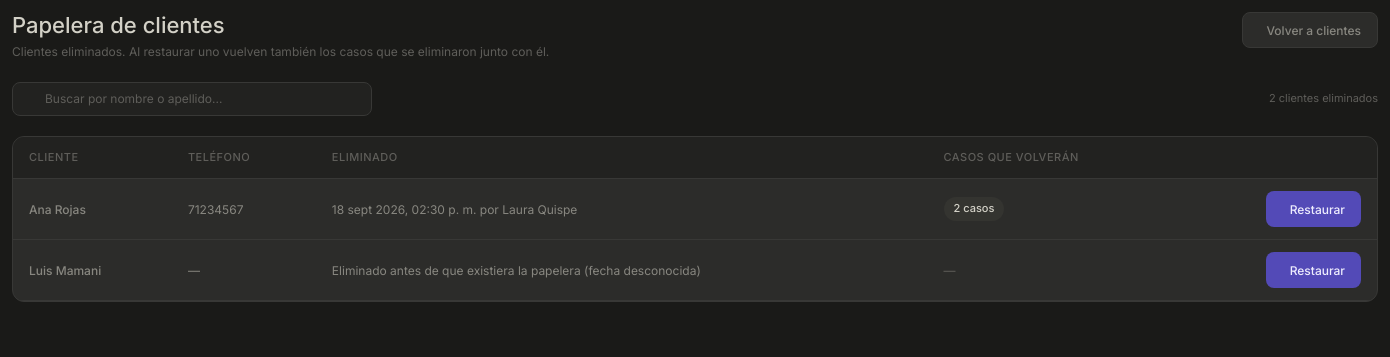
Test: PapeleraClientesPage › restaurar avisa cuántos casos vuelven, restaura y confirma el resultado
Expected: the text "Ana Rojas" is shown, [13,179,172,240]
Click the button "Restaurar" in the row of "Ana Rojas".
click(1313, 209)  # box [1266,191,1361,227]
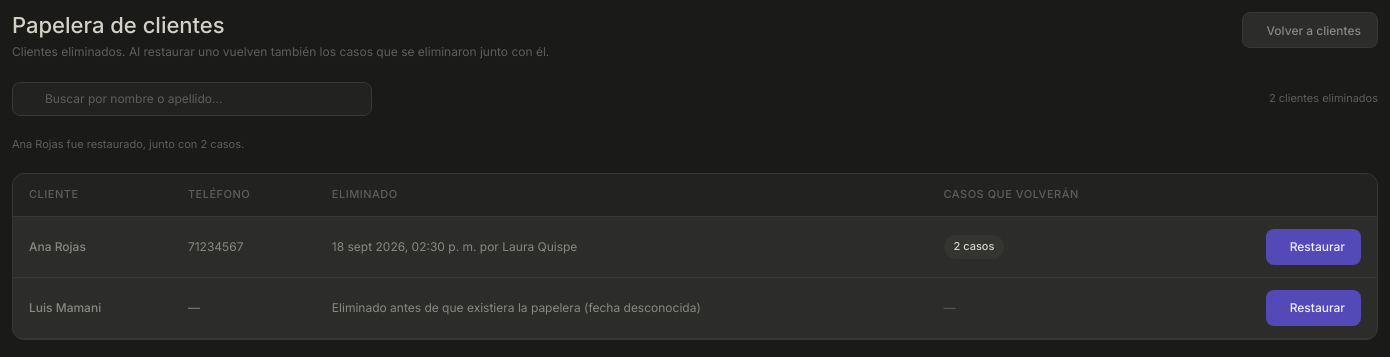
Now the text "Ana Rojas fue restaurado, junto con 2 casos." is shown, box [12,137,244,151]
